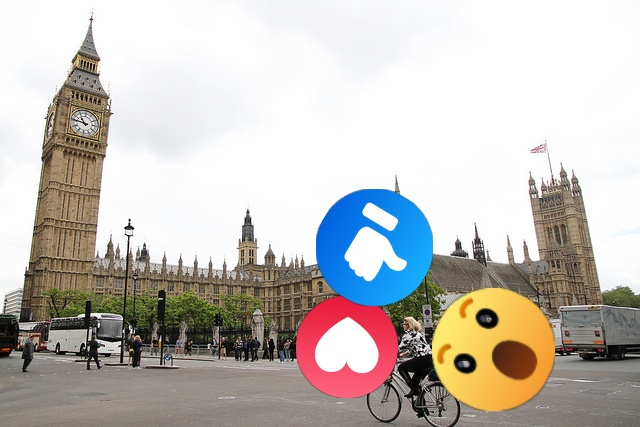like: (316, 189, 433, 306)
love: (296, 296, 398, 398)
wow: (432, 288, 555, 411)
